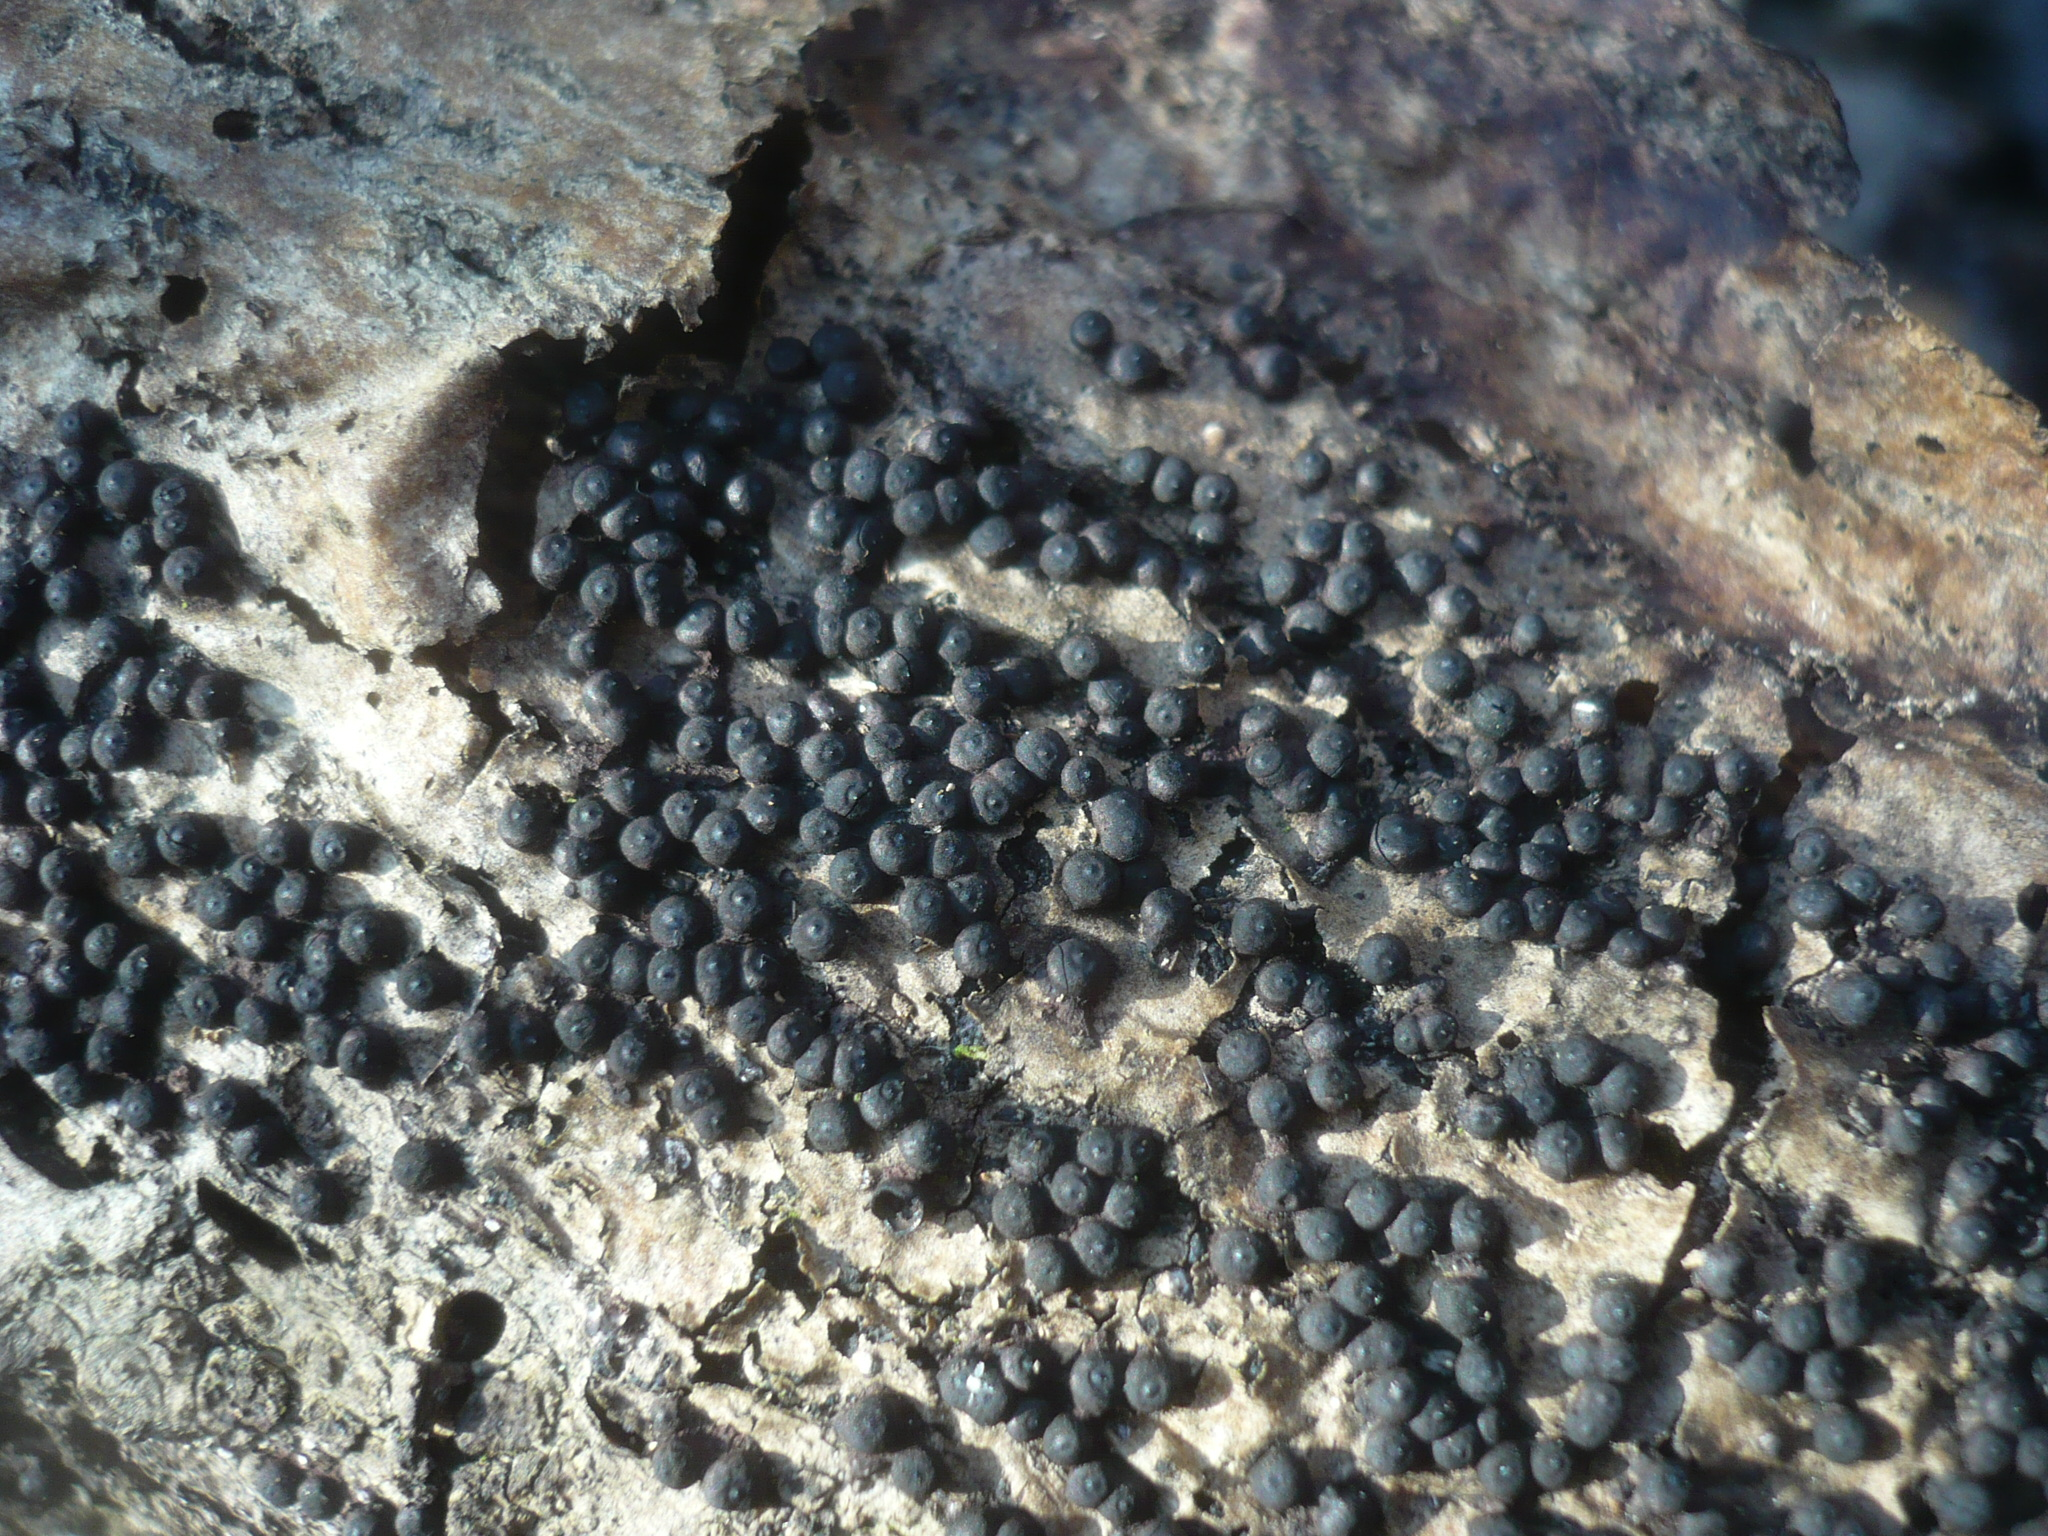pudricion radicular: (364, 139, 2025, 1476)
